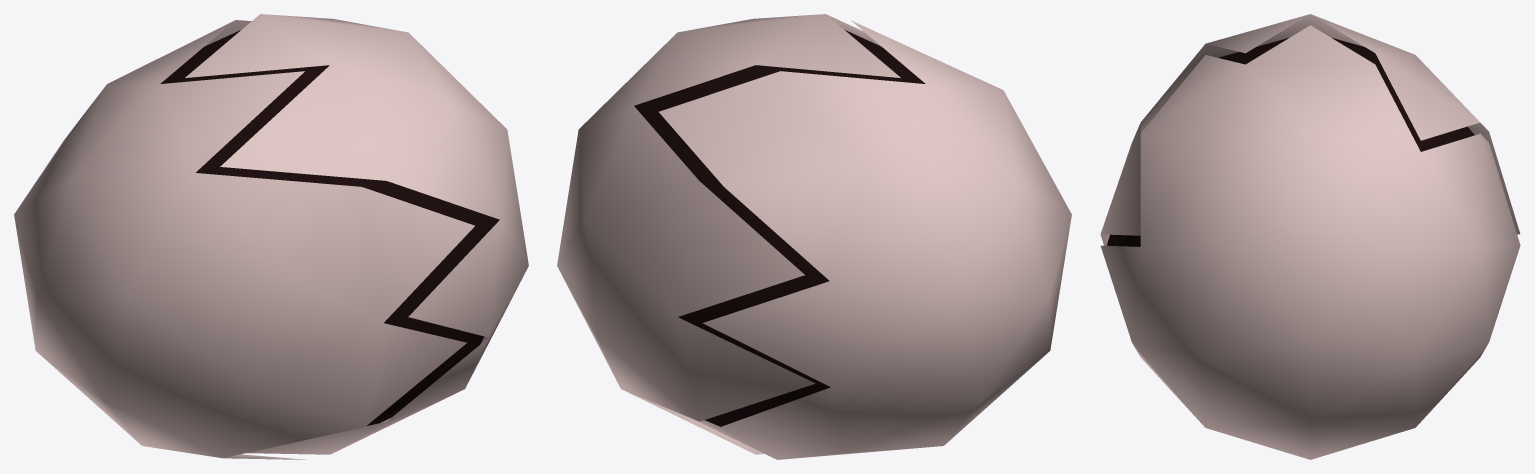
Rendered from egg cracked 2.fbx.
3 views of the same model, side by side, from view 1: azimuth 30°, elevation 25°; view 2: azimuth 150°, elevation 25°; view 3: azimuth 270°, elevation 25° (orthographic). The views are drawn at different scales.
Parts seen in each view (by area): view 1: egg cracked 2; view 2: egg cracked 2; view 3: egg cracked 2.
Part boxes in pixels (left/top/right/bottom): egg cracked 2: left=14, top=14, right=528, bottom=459; egg cracked 2: left=557, top=14, right=1071, bottom=459; egg cracked 2: left=1100, top=14, right=1520, bottom=459.
Size of the model in its own units: 0.2367 by 0.1897 by 0.1995.
